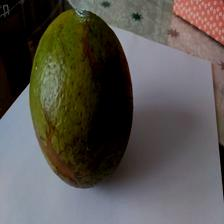Orange Rotten: (23, 4, 138, 192)
